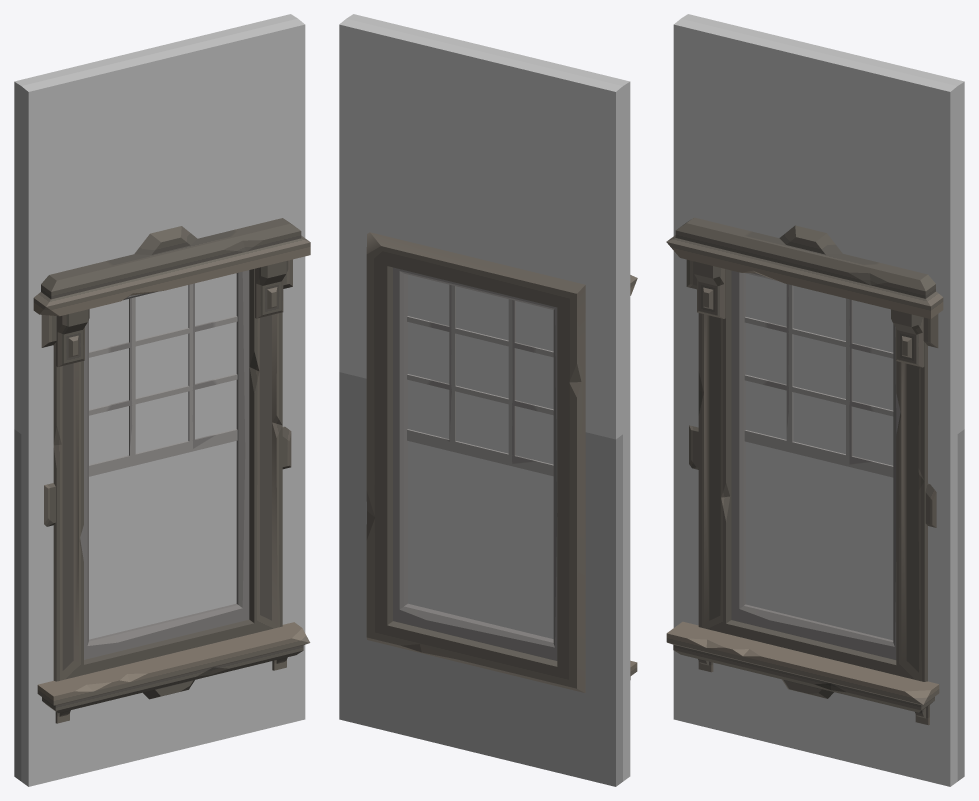
The model's file is SM_Bld_Wall_Window_Double_01.fbx.
The picture shows the model from 3 angles, left to right: view 1: azimuth 30°, elevation 25°; view 2: azimuth 150°, elevation 25°; view 3: azimuth 330°, elevation 25°; orthographic projection.
Parts seen in each view (by area): view 1: SM_Bld_Wall_Window_Double_01; view 2: SM_Bld_Wall_Window_Double_01; view 3: SM_Bld_Wall_Window_Double_01.
Boxes of the visible parts, x1,y1,x2,y2 form: SM_Bld_Wall_Window_Double_01: (14, 14, 310, 786); SM_Bld_Wall_Window_Double_01: (339, 14, 637, 786); SM_Bld_Wall_Window_Double_01: (666, 14, 964, 786).
Bounding box in the file's own units: 250 × 601 × 54.68.
